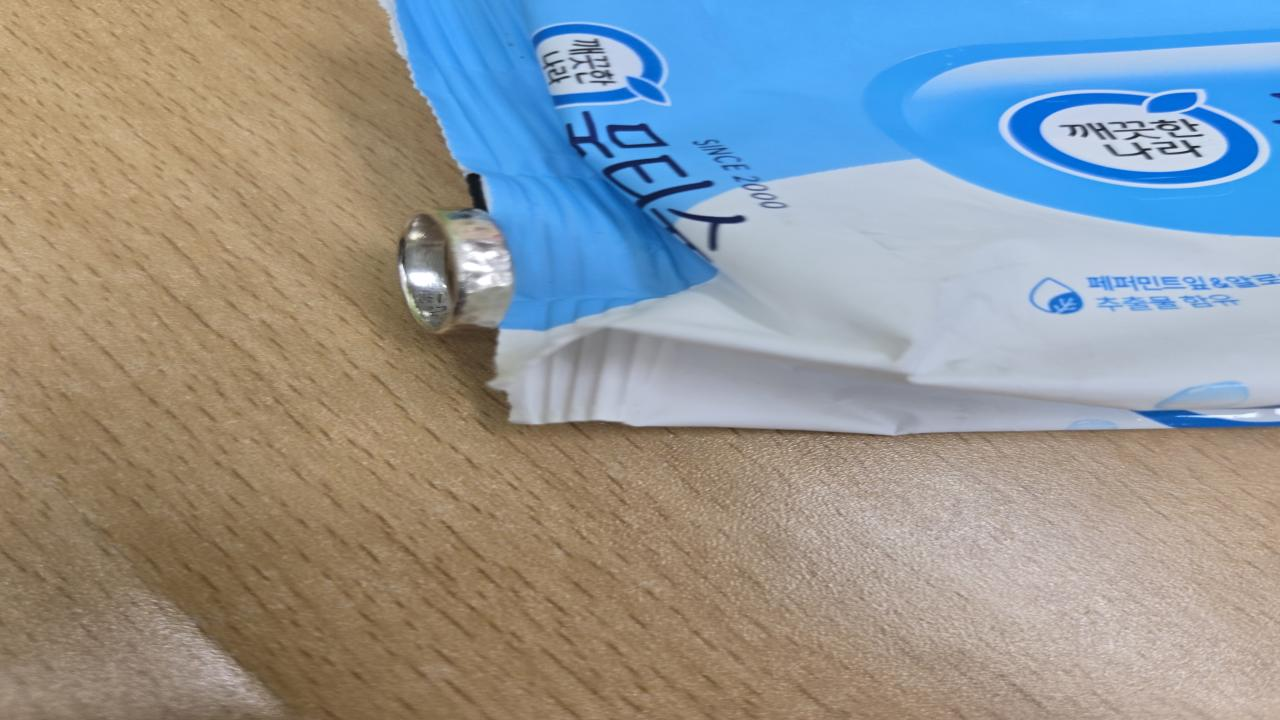ring: (392, 209, 515, 334)
